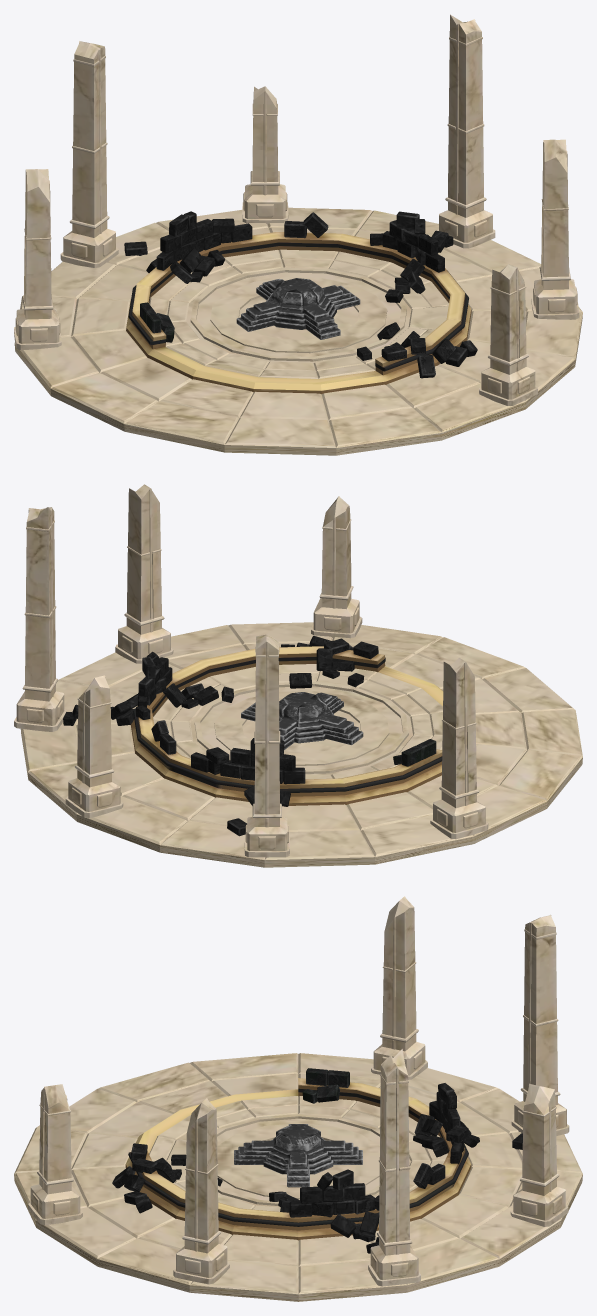
The model's file is amore_ruin.glb.
3 renders of one model, top to bottom at view 1: azimuth 30°, elevation 25°; view 2: azimuth 150°, elevation 25°; view 3: azimuth 270°, elevation 25°, orthographic.
Visible parts, largest first — view 1: Floor, Pillar, Stand, polySurface35, Brick28, polySurface36, Brick12, polySurface34; view 2: Floor, Pillar, Stand, Brick28, polySurface35, polySurface36, polySurface34, Brick12; view 3: Floor, Pillar, Stand, Brick28, polySurface35, polySurface36, polySurface34, Brick12.
Part boxes in pixels (left/top/right/bottom): Floor: left=14, top=207, right=582, bottom=455; Pillar: left=14, top=14, right=579, bottom=405; Stand: left=236, top=278, right=360, bottom=339; polySurface35: left=124, top=211, right=252, bottom=283; Brick28: left=370, top=211, right=453, bottom=302; polySurface36: left=357, top=322, right=477, bottom=378; Brick12: left=284, top=212, right=328, bottom=238; polySurface34: left=140, top=302, right=174, bottom=342; Floor: left=20, top=622, right=582, bottom=867; Pillar: left=14, top=484, right=488, bottom=857; Stand: left=241, top=692, right=363, bottom=749; Brick28: left=63, top=651, right=233, bottom=725; polySurface35: left=191, top=738, right=305, bottom=836; polySurface36: left=281, top=636, right=378, bottom=688; polySurface34: left=393, top=739, right=436, bottom=766; Brick12: left=151, top=720, right=176, bottom=754; Floor: left=14, top=1053, right=582, bottom=1301; Pillar: left=28, top=896, right=569, bottom=1286; Stand: left=234, top=1124, right=362, bottom=1187; Brick28: left=269, top=1169, right=379, bottom=1253; polySurface35: left=413, top=1083, right=522, bottom=1164; polySurface36: left=112, top=1143, right=222, bottom=1213; polySurface34: left=302, top=1068, right=349, bottom=1103; Brick12: left=413, top=1163, right=445, bottom=1188.
Bounding box in the file's own units: 2.85 × 1.28 × 2.85.
8 materials, 8 textured.
